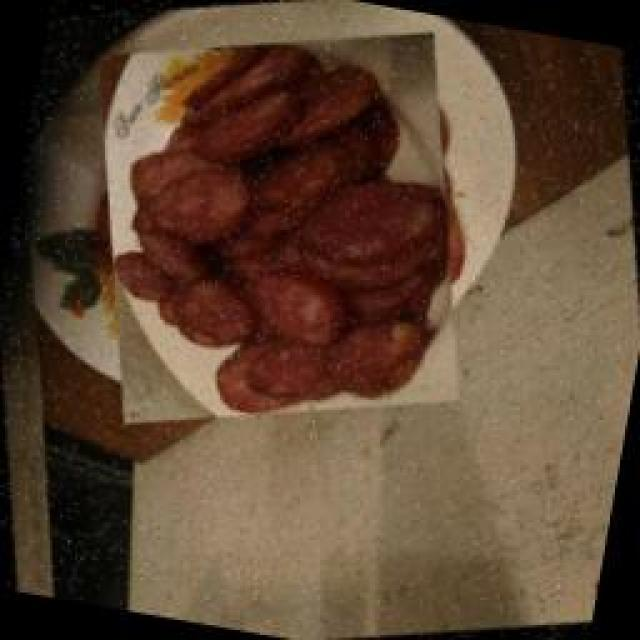chinese_sausage: (33, 0, 528, 475)
